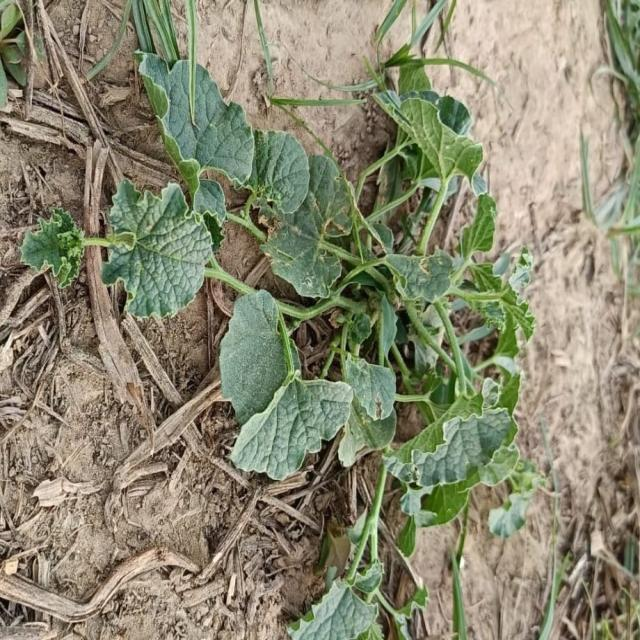plant: (21, 3, 541, 636)
